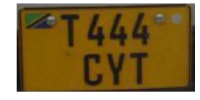T: (58, 12, 84, 50), (128, 51, 152, 87)
